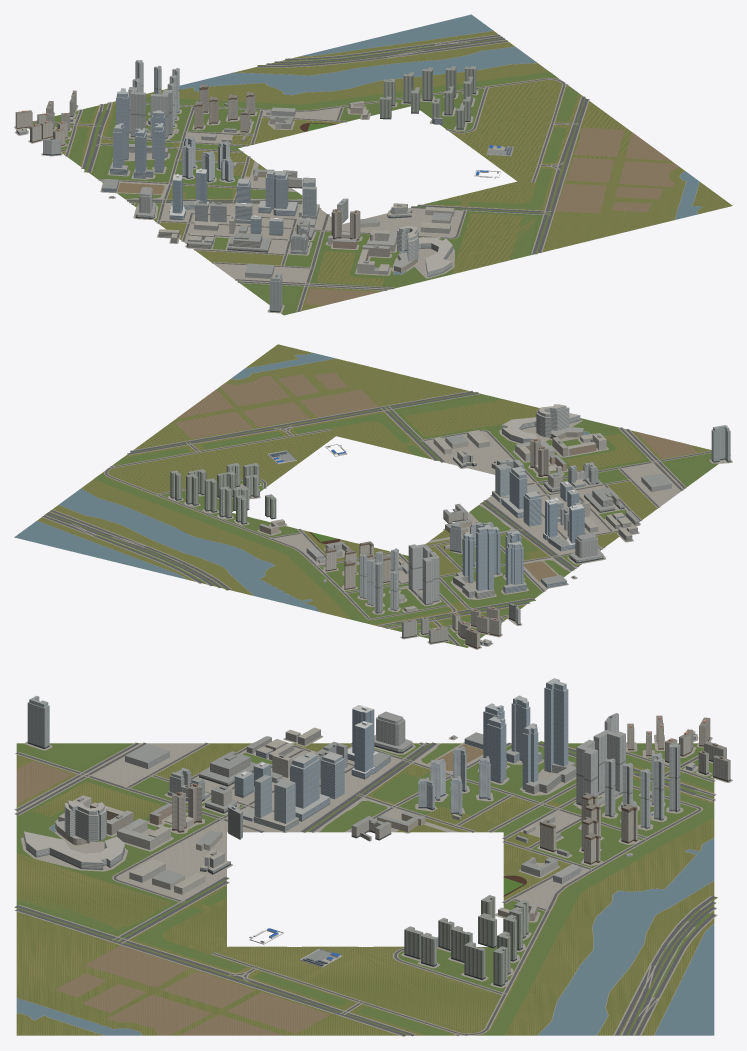
3 views of the same model, one above another, from view 1: azimuth 30°, elevation 25°; view 2: azimuth 150°, elevation 25°; view 3: azimuth 270°, elevation 25° (orthographic). The views are drawn at different scales.
Parts seen in each view (by area): view 1: context-ground-vacantWeeds, context-ground-cityPaving, context-roofs, context-water, context-ground-aptGarden, context-ground-constructionSoil, context-walk, context-wallsGlassTower, context-meadow, context-wallsAptBand, context-roadOneway, context-green (+10 smaller); view 2: context-ground-vacantWeeds, context-water, context-ground-constructionSoil, context-roofs, context-ground-cityPaving, context-walk, context-ground-aptGarden, context-wallsGlassTower, context-roadOneway, context-wallsAptPanel, context-meadow, context-green (+10 smaller); view 3: context-ground-vacantWeeds, context-water, context-roofs, context-ground-constructionSoil, context-ground-aptGarden, context-ground-cityPaving, context-walk, context-wallsGlassTower, context-meadow, context-ground-grassPark, context-wallsAptPanel, context-wallsAptBand (+10 smaller).
Part boxes in pixels (left/top/right/bottom): context-ground-vacantWeeds: left=61, top=31, right=732, bottom=310; context-ground-cityPaving: left=14, top=90, right=478, bottom=313; context-roofs: left=16, top=60, right=511, bottom=281; context-water: left=179, top=14, right=702, bottom=274; context-ground-aptGarden: left=28, top=88, right=542, bottom=315; context-ground-constructionSoil: left=117, top=127, right=679, bottom=305; context-walk: left=33, top=34, right=589, bottom=311; context-wallsGlassTower: left=113, top=90, right=417, bottom=281; context-meadow: left=316, top=143, right=536, bottom=285; context-wallsAptBand: left=15, top=85, right=360, bottom=246; context-roadOneway: left=82, top=35, right=588, bottom=254; context-green: left=69, top=86, right=578, bottom=304; context-ground-vacantWeeds: left=37, top=344, right=711, bottom=630; context-water: left=14, top=353, right=589, bottom=611; context-ground-constructionSoil: left=175, top=372, right=697, bottom=581; context-roofs: left=170, top=404, right=729, bottom=643; context-ground-cityPaving: left=168, top=419, right=732, bottom=649; context-walk: left=41, top=390, right=711, bottom=645; context-ground-aptGarden: left=161, top=393, right=718, bottom=647; context-wallsGlassTower: left=451, top=406, right=729, bottom=590; context-roadOneway: left=42, top=391, right=576, bottom=628; context-wallsAptPanel: left=359, top=429, right=730, bottom=612; context-meadow: left=400, top=395, right=644, bottom=471; context-green: left=114, top=395, right=712, bottom=631; context-ground-vacantWeeds: left=16, top=743, right=714, bottom=1035; context-water: left=16, top=824, right=714, bottom=1035; context-roofs: left=24, top=678, right=730, bottom=965; context-ground-constructionSoil: left=16, top=744, right=483, bottom=1035; context-ground-aptGarden: left=16, top=743, right=714, bottom=992; context-ground-cityPaving: left=21, top=734, right=732, bottom=988; context-walk: left=14, top=742, right=717, bottom=1036; context-wallsGlassTower: left=29, top=680, right=568, bottom=823; context-meadow: left=16, top=782, right=480, bottom=1030; context-ground-grassPark: left=136, top=800, right=714, bottom=1035; context-wallsAptPanel: left=27, top=700, right=680, bottom=827; context-wallsAptBand: left=172, top=714, right=730, bottom=863.
Size of what is drawn, in the model's own units: 1852 by 249 by 1845.
Materials: 26 (23 with a texture image).
